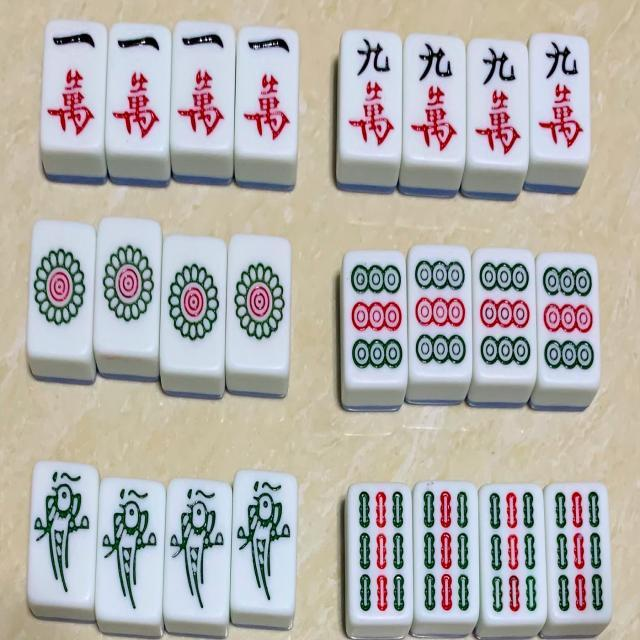sb1: (234, 478, 296, 608), (168, 486, 226, 618), (101, 486, 161, 608), (35, 470, 92, 598)
sb9: (542, 482, 612, 622), (411, 479, 479, 622), (346, 484, 412, 627), (478, 482, 544, 624)
sc1: (105, 24, 172, 154), (41, 22, 108, 152), (171, 23, 237, 153), (238, 34, 297, 152)
sc9: (406, 41, 464, 157), (532, 38, 588, 156), (343, 37, 399, 151), (468, 47, 525, 159)
sd1: (28, 221, 98, 359), (98, 218, 165, 358), (228, 234, 294, 374), (162, 234, 228, 374)
sd9: (342, 254, 407, 388), (406, 244, 470, 378), (537, 255, 601, 388), (472, 246, 536, 378)
